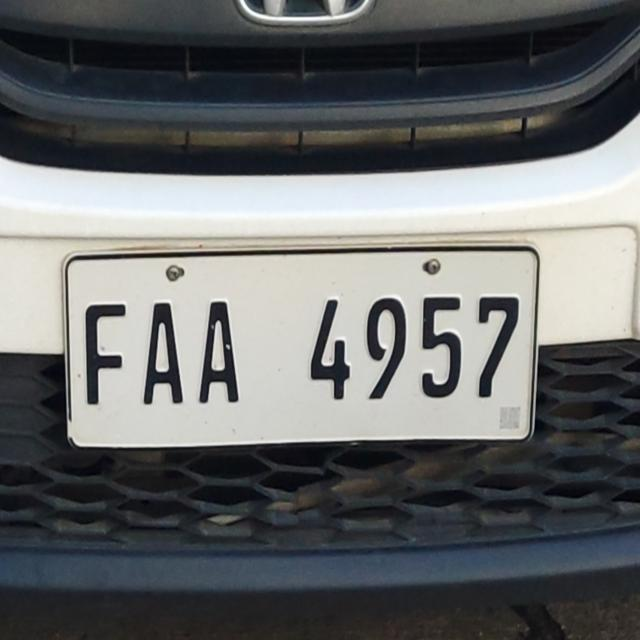LicensePlate: (50, 240, 548, 452)
